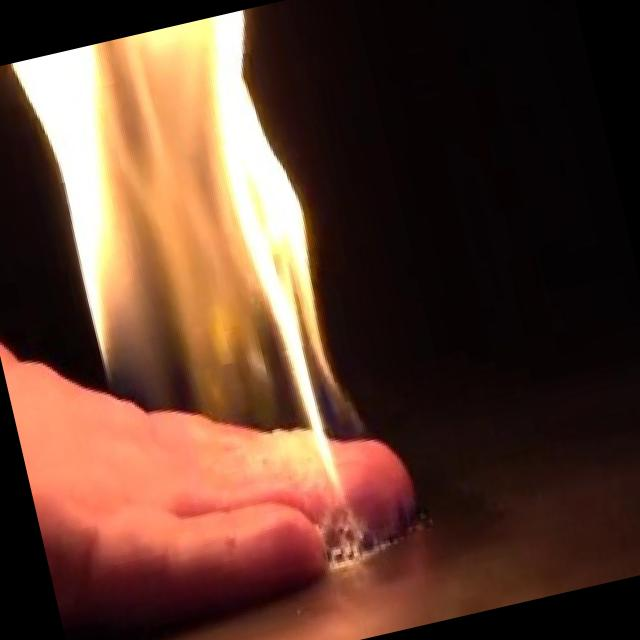Fire: (3, 3, 380, 536)
